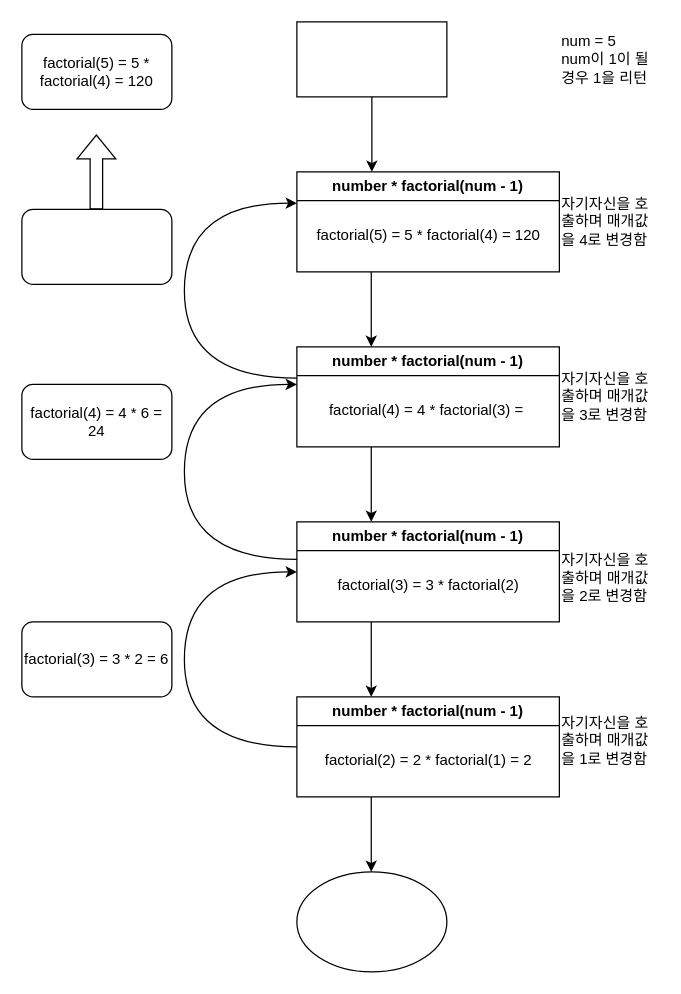
Some shapes in this 681 by 994 pixel diagram are drawn without their labels. The centre of each missing label's shape, as x and y in pixels:
"factorial(5) = 5 * 24 = 120" belongs at (x=96, y=246).
"factorial(num)" belongs at (x=371, y=59).
"num 값이 1이 되어 1을 리턴하며 재귀함수 탈출" belongs at (x=371, y=921).
